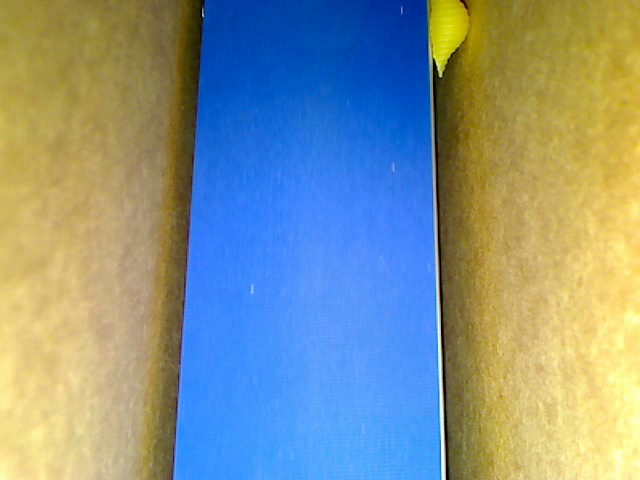shell: (427, 1, 471, 84)
